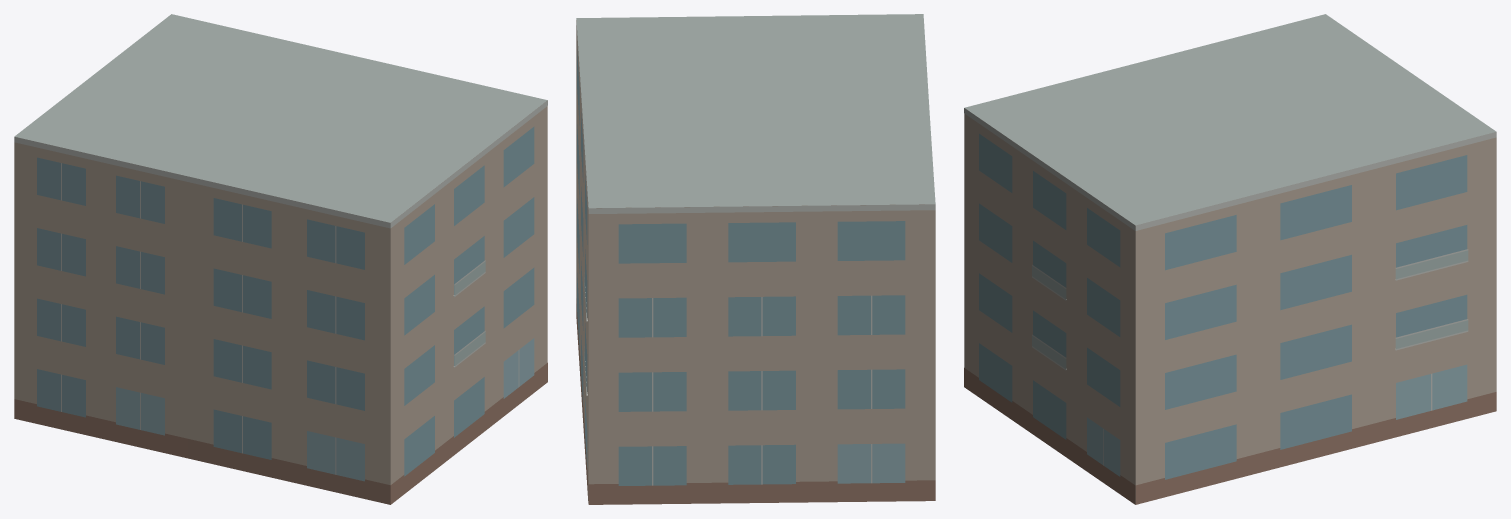
Rendered from residential-e5bc5a7c-d579-431b-981f-ec02db795a46.glb.
3 renders of one model, left to right at view 1: azimuth 30°, elevation 25°; view 2: azimuth 150°, elevation 25°; view 3: azimuth 270°, elevation 25°, orthographic. The views are drawn at different scales.
Parts seen in each view (by area): view 1: residential-e5bc5a7c-d579-431b-981f-ec02db795a46.tmp; view 2: residential-e5bc5a7c-d579-431b-981f-ec02db795a46.tmp; view 3: residential-e5bc5a7c-d579-431b-981f-ec02db795a46.tmp.
Boxes of the visible parts, x1,y1,x2,y2 form: residential-e5bc5a7c-d579-431b-981f-ec02db795a46.tmp: (14, 14, 547, 504); residential-e5bc5a7c-d579-431b-981f-ec02db795a46.tmp: (576, 14, 935, 504); residential-e5bc5a7c-d579-431b-981f-ec02db795a46.tmp: (964, 14, 1496, 504).
Bounding box in the file's own units: 19.81 × 12.2 × 21.08.
